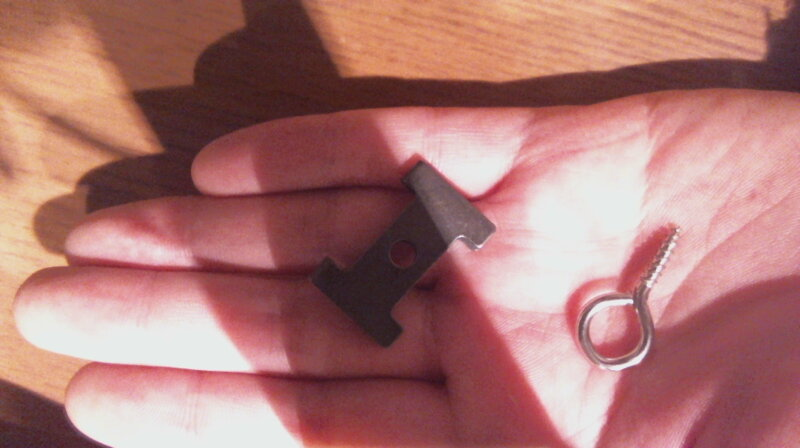O001: (567, 218, 688, 378)
O002: (306, 152, 499, 349)
